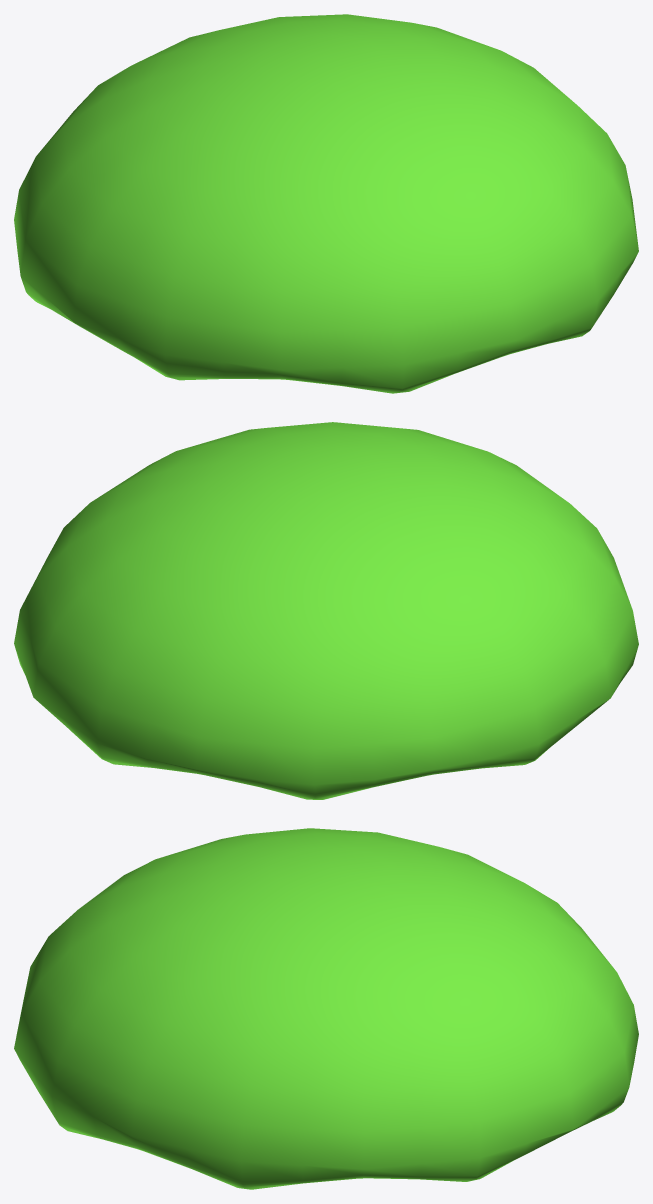
Rendered from sm_feuille4.fbx.
3 views of the same model, one above another, from view 1: azimuth 30°, elevation 25°; view 2: azimuth 150°, elevation 25°; view 3: azimuth 270°, elevation 25° (orthographic). The views are drawn at different scales.
Parts seen in each view (by area): view 1: bouquetFeuilles4; view 2: bouquetFeuilles4; view 3: bouquetFeuilles4.
Part boxes in pixels (x1,y1,x2,y2): bouquetFeuilles4: (14, 14, 638, 393); bouquetFeuilles4: (14, 422, 638, 799); bouquetFeuilles4: (14, 828, 638, 1189).
Bounding box in the file's own units: 444 × 164 × 455.
